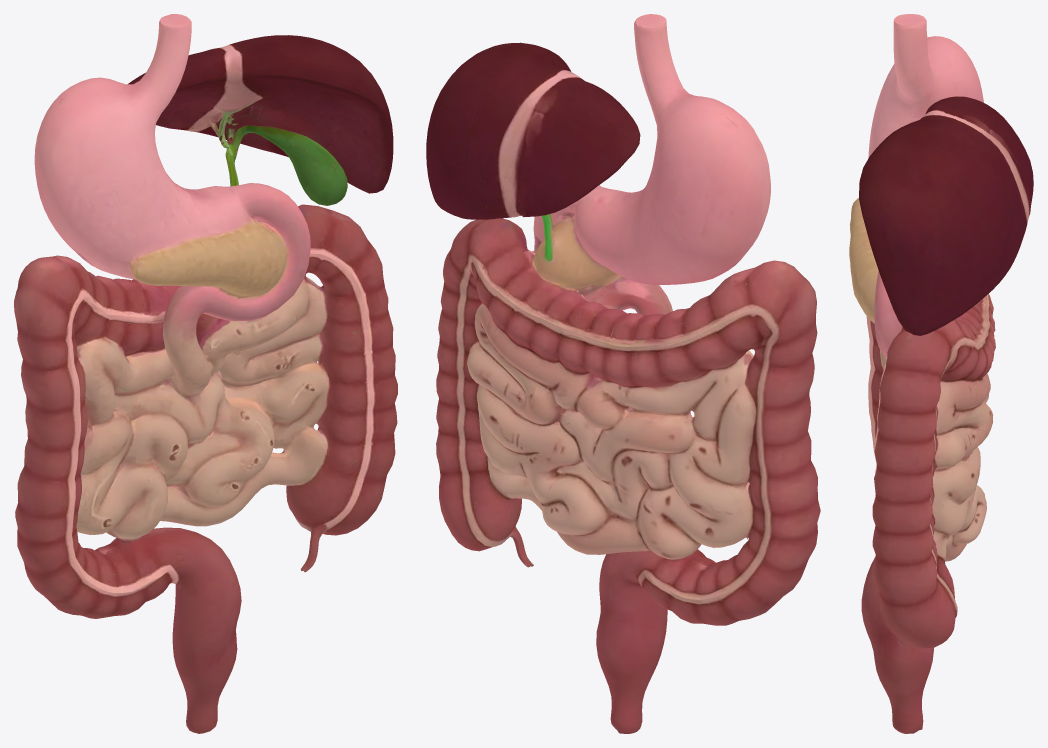
The model's file is digestive.glb.
3 views of the same model, side by side, from view 1: azimuth 30°, elevation 25°; view 2: azimuth 150°, elevation 25°; view 3: azimuth 270°, elevation 25° (orthographic). The views are drawn at different scales.
Parts seen in each view (by area): view 1: Mesh0; view 2: Mesh0; view 3: Mesh0.
Boxes of the visible parts, <box> form: Mesh0: <box>14,14,397,733</box>; Mesh0: <box>426,14,820,733</box>; Mesh0: <box>849,14,1033,733</box>.
Size of the model in its own units: 1.04 by 1.91 by 0.4569.
Materials: 1 (1 with a texture image).
